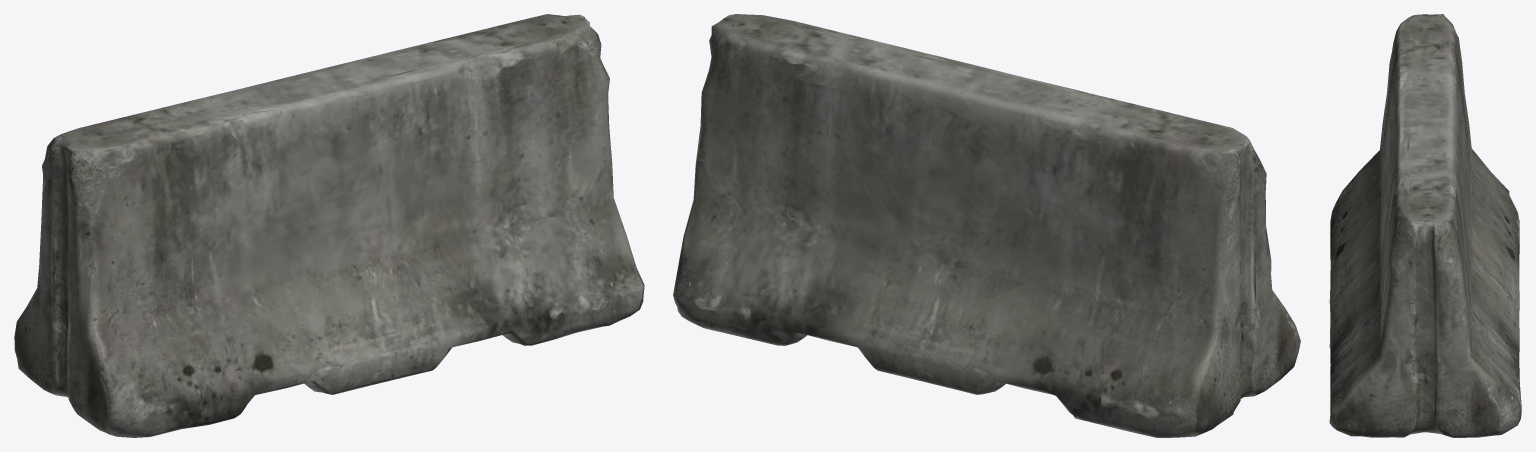
Rendered from jersey_barrier.glb.
The picture shows the model from 3 angles, left to right: view 1: azimuth 30°, elevation 25°; view 2: azimuth 150°, elevation 25°; view 3: azimuth 270°, elevation 25°; orthographic projection. The views are drawn at different scales.
Visible parts, largest first — view 1: hull; view 2: hull; view 3: hull.
Boxes of the visible parts, box(x1,y1,x2,y2) form: hull: box(14, 14, 644, 437); hull: box(673, 14, 1300, 437); hull: box(1329, 14, 1521, 437).
Bounding box in the file's own units: 3.6 × 1.68 × 1.36.
1 material, 1 textured.
